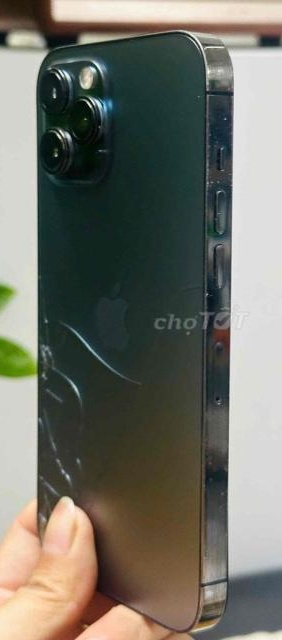physical_damage: (23, 284, 149, 575)
scratch: (190, 68, 234, 367)
